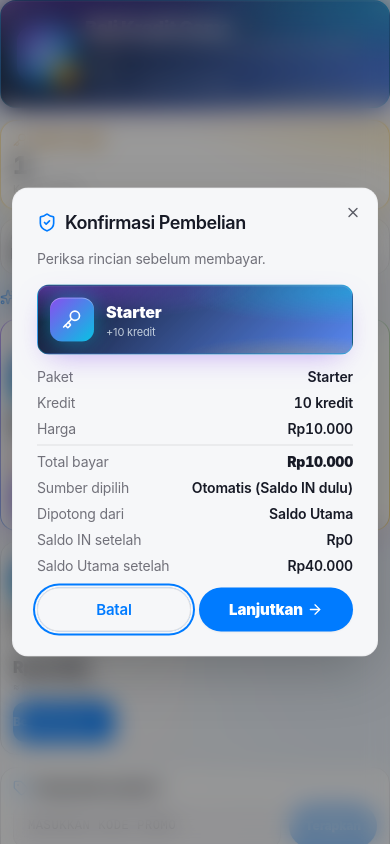
Test case: CreditShopPanel › alur beli: konfirmasi → PIN 6 digit → satu transaksi walau diklik dua kali → sukses dari respons server
Earlier steps of the test are not shown.
Later steps or results of the test are not shown.
Expected: the heading "Konfirmasi Pembelian" is shown, [65,212,246,232]
Click the 3rd button named "Lanjutkan": [276, 610] box [199,588,353,632]
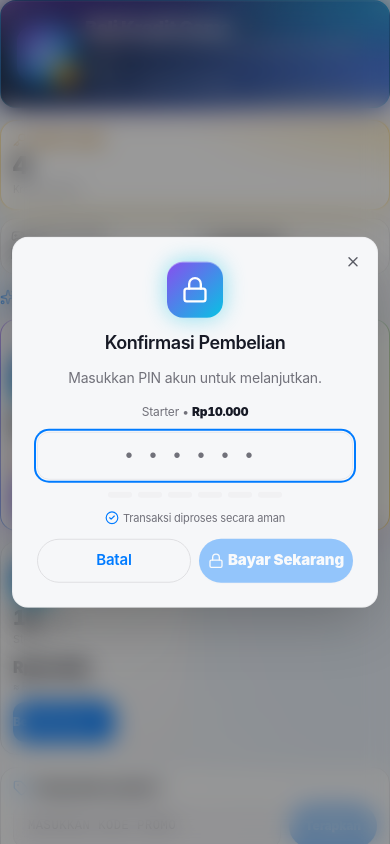
In the password field named "PIN 6 digit": [195, 456] box [37,432,353,480], type "12a34"
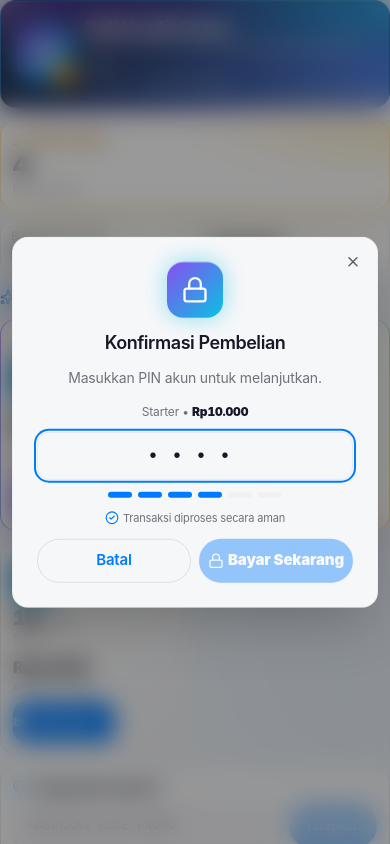
Expected: the 3rd button named "Bayar Sekarang" is disabled, [199,538,353,582]
In the password field named "PIN 6 digit": [195, 456] box [37,432,353,480], type "123456"
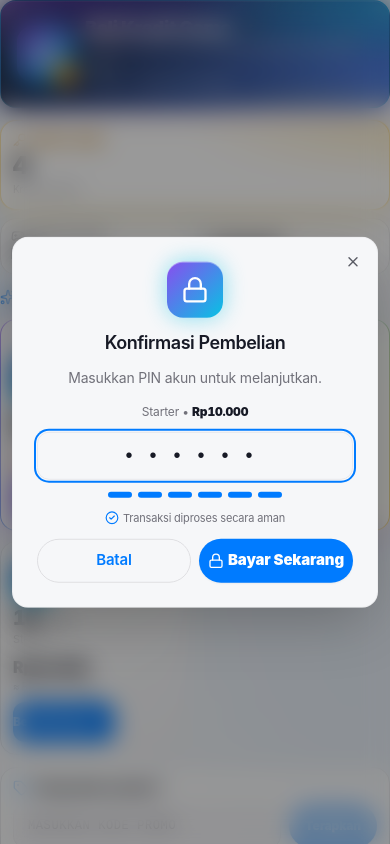
Expected: the 3rd button named "Bayar Sekarang" is enabled
Click the 3rd button named "Bayar Sekarang": [276, 560] box [199,538,353,582]
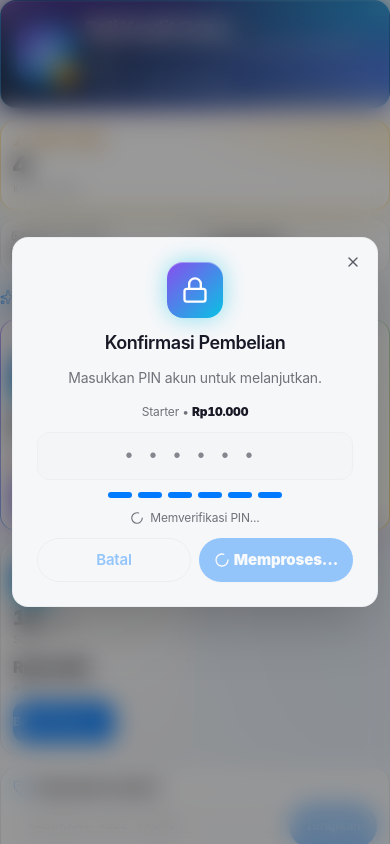
Submit the form named "PIN 6 digit", box [37,404,353,582]
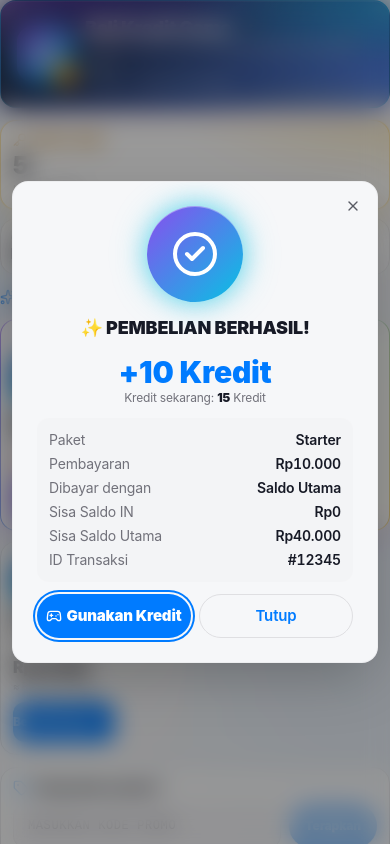
Expected: the 1st text "✨ PEMBELIAN BERHASIL!" is shown, [80,317,310,338]
Expected: the 2nd text "+10 Kredit" is shown, [118,354,272,390]
